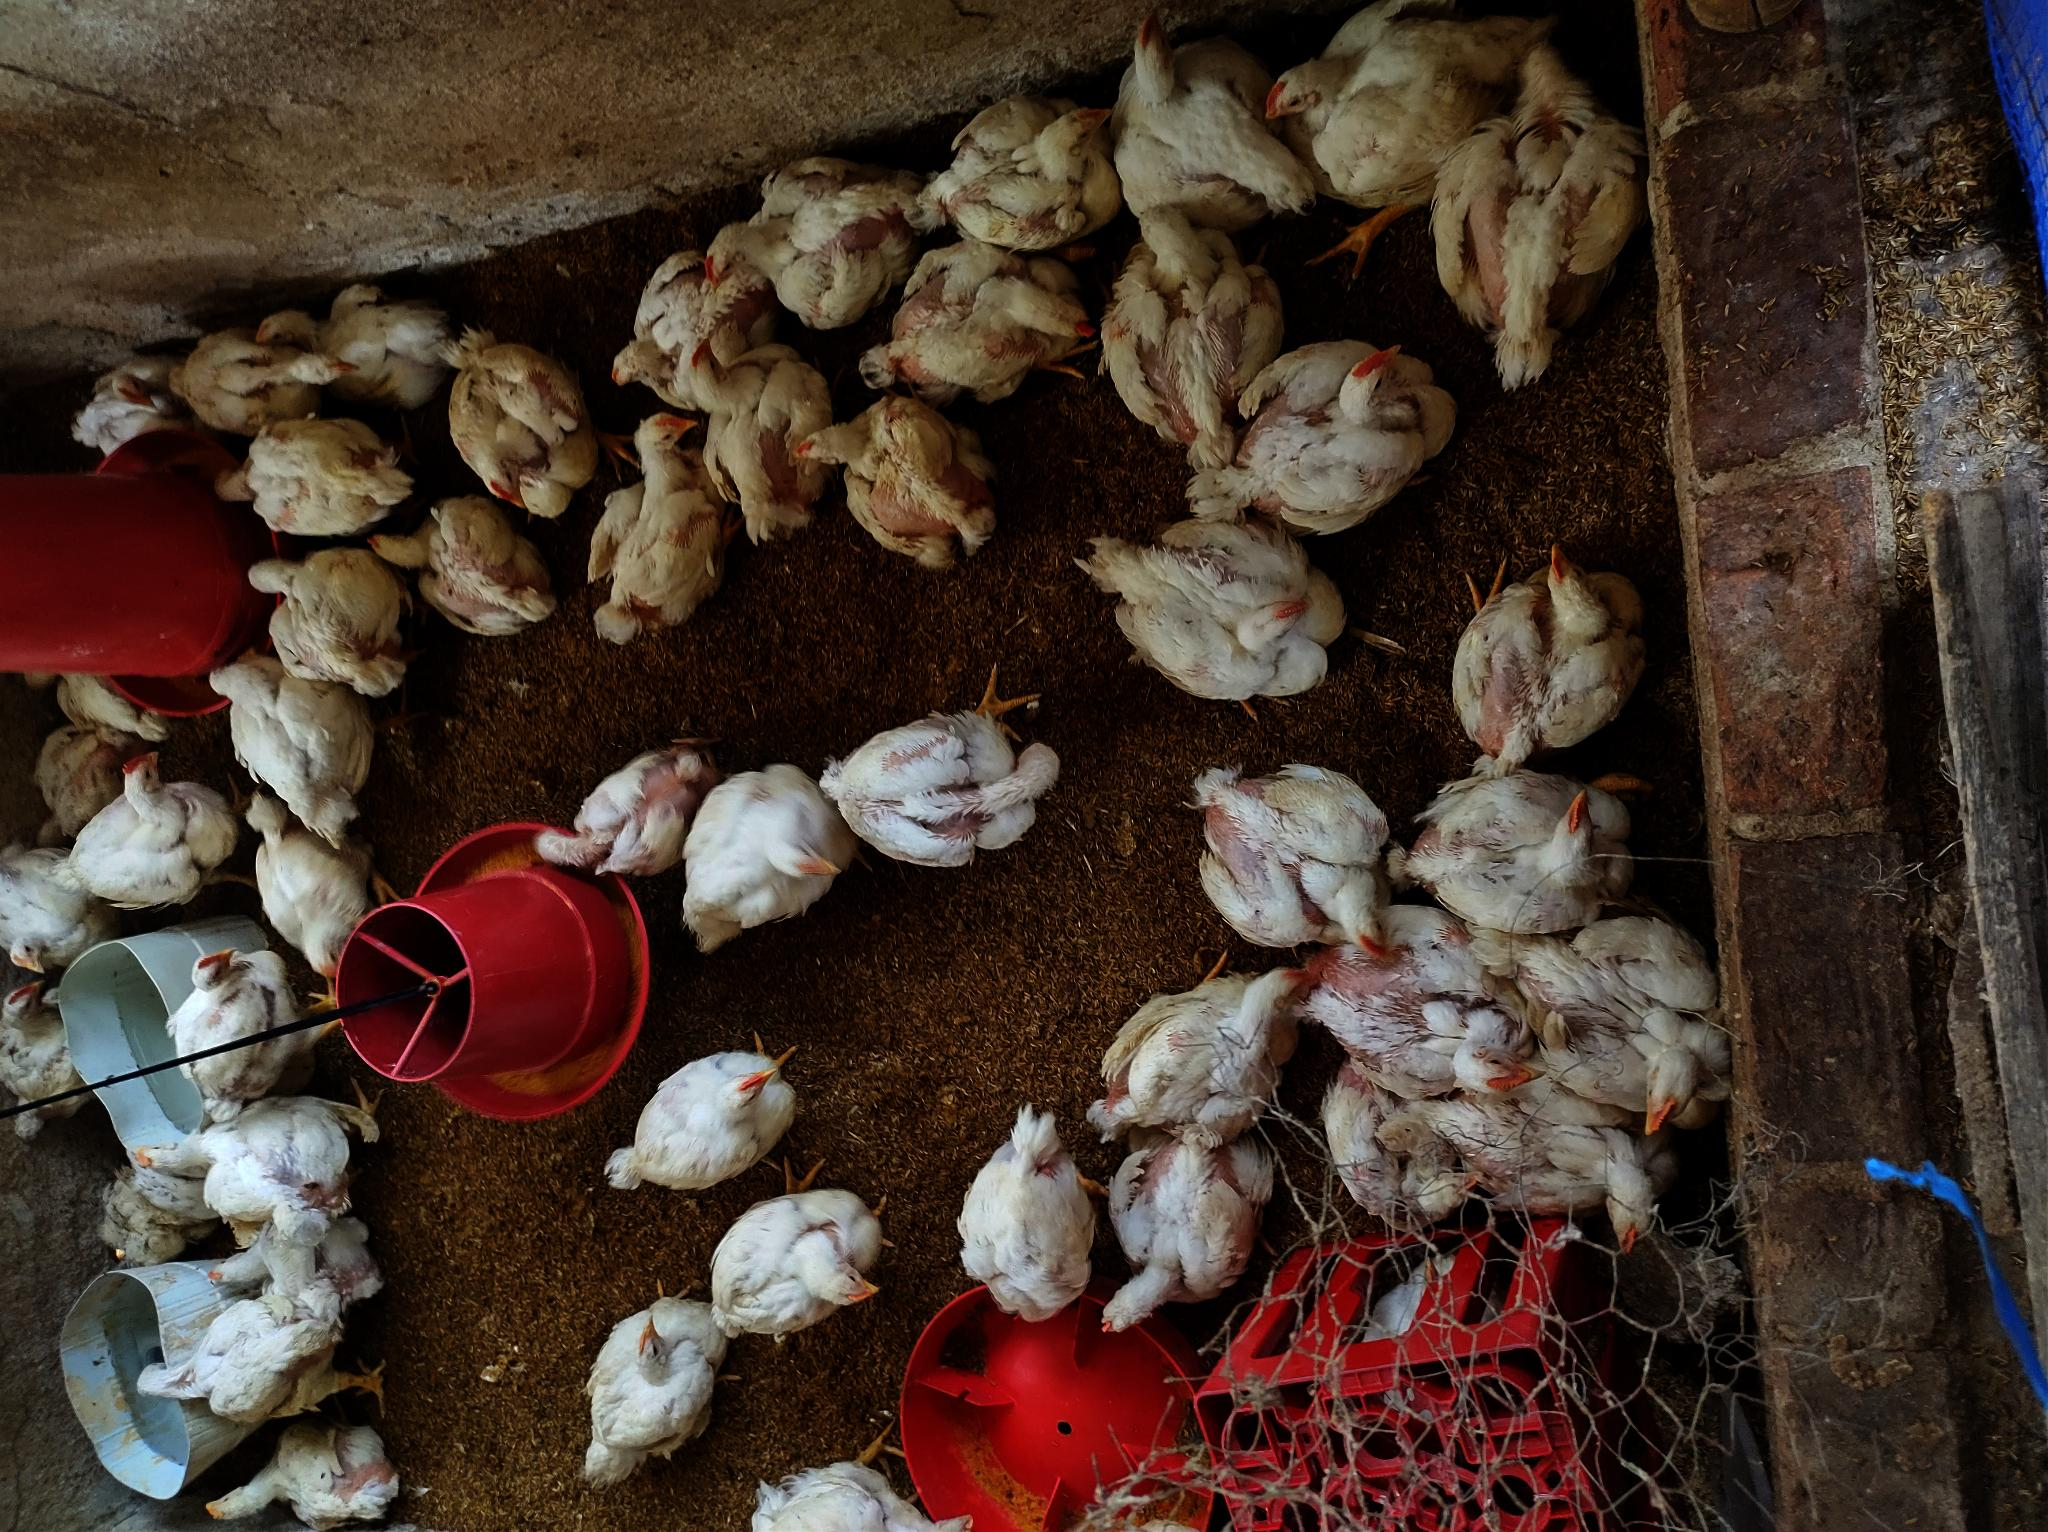Pollos: (1424, 31, 1646, 397), (1252, 0, 1511, 237), (1076, 497, 1345, 711), (1433, 531, 1654, 772), (1094, 195, 1282, 467), (1100, 0, 1310, 243), (1416, 1060, 1672, 1258), (1223, 330, 1461, 534), (1519, 914, 1731, 1141), (1395, 760, 1647, 946), (1174, 760, 1398, 967), (1306, 903, 1535, 1099), (693, 153, 928, 340), (655, 328, 838, 549), (825, 710, 1063, 877), (1084, 962, 1308, 1139), (1091, 1125, 1271, 1340), (788, 394, 993, 568), (874, 240, 1096, 394), (684, 760, 849, 959), (951, 1109, 1097, 1332), (204, 649, 368, 848), (582, 407, 721, 642), (602, 246, 808, 404), (909, 92, 1110, 249), (708, 1186, 890, 1353), (1319, 1056, 1490, 1233), (127, 1093, 364, 1220), (602, 1048, 790, 1205), (436, 335, 598, 517), (55, 745, 240, 903), (578, 1292, 721, 1492), (233, 780, 365, 996), (129, 1299, 351, 1423), (249, 283, 465, 410), (206, 417, 420, 544), (368, 496, 549, 639), (164, 938, 312, 1106), (240, 550, 404, 695), (524, 748, 705, 874), (199, 1431, 412, 1530), (162, 322, 352, 430), (201, 1213, 385, 1310), (750, 1453, 972, 1532), (0, 830, 101, 985), (2, 975, 85, 1130), (51, 352, 174, 455)
